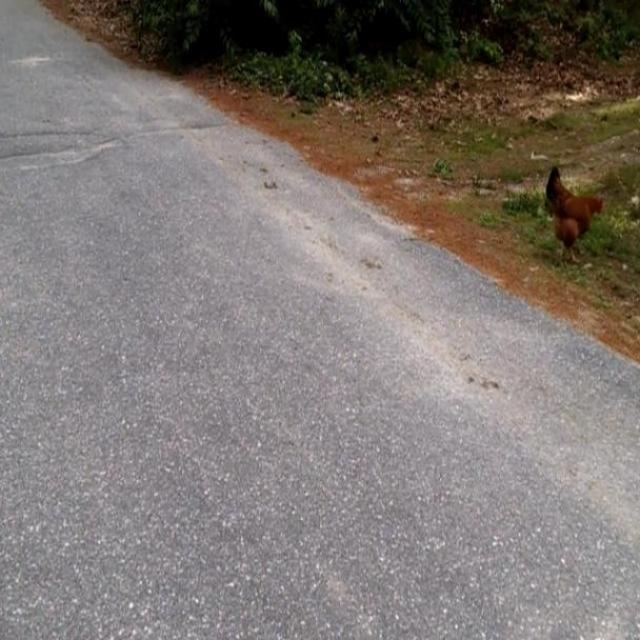Chicken: (545, 165, 603, 265)
